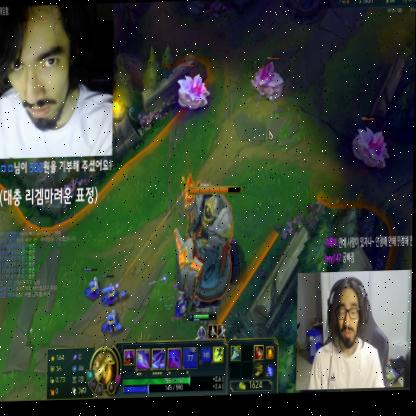donation: (0, 2, 114, 207)
streamer: (309, 279, 387, 392)
